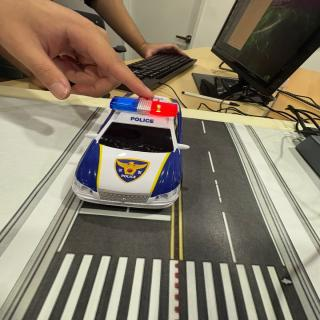Police_car: (73, 94, 189, 208)
